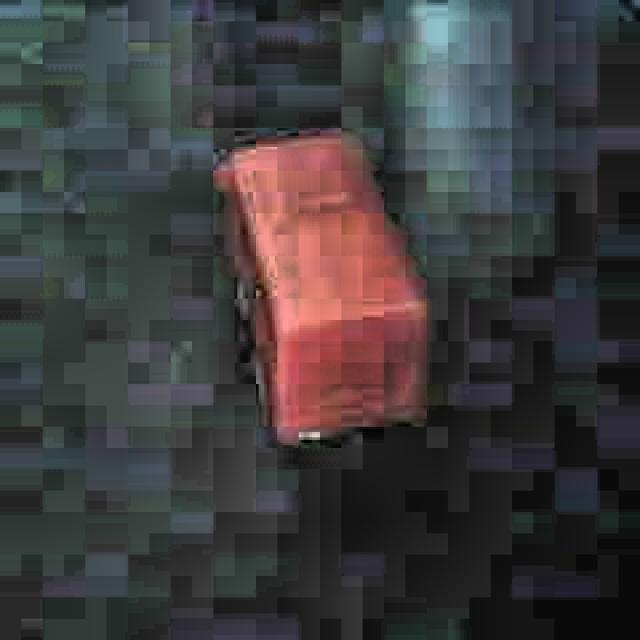bus: (209, 130, 434, 464)
